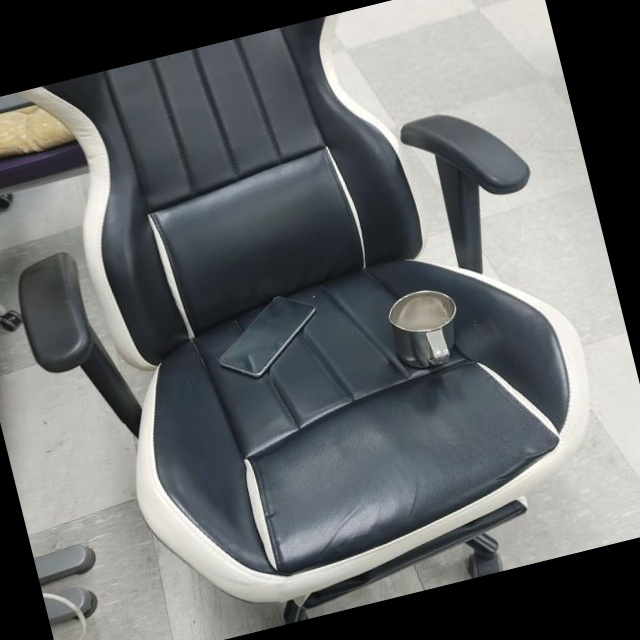cup: (380, 279, 471, 378)
phone: (205, 287, 329, 387)
